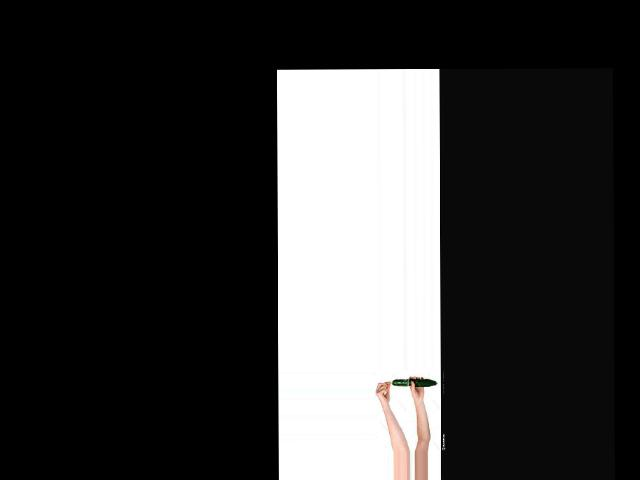cucumber: (392, 378, 438, 385)
